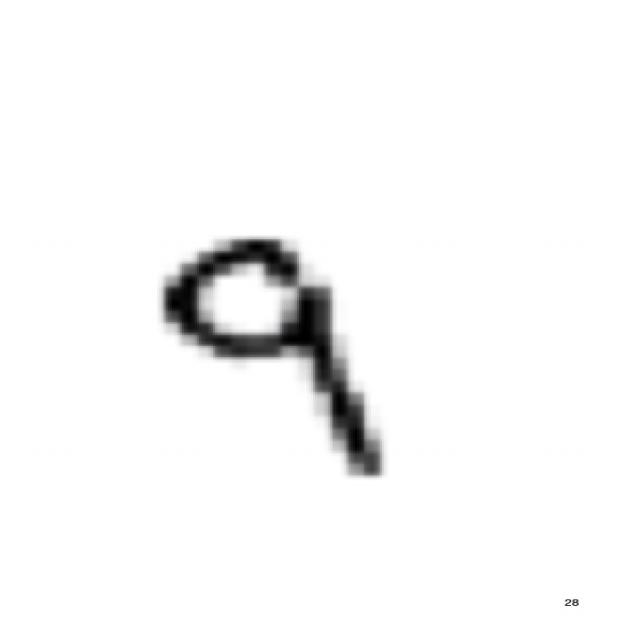9 -nine-: (148, 222, 400, 493)
